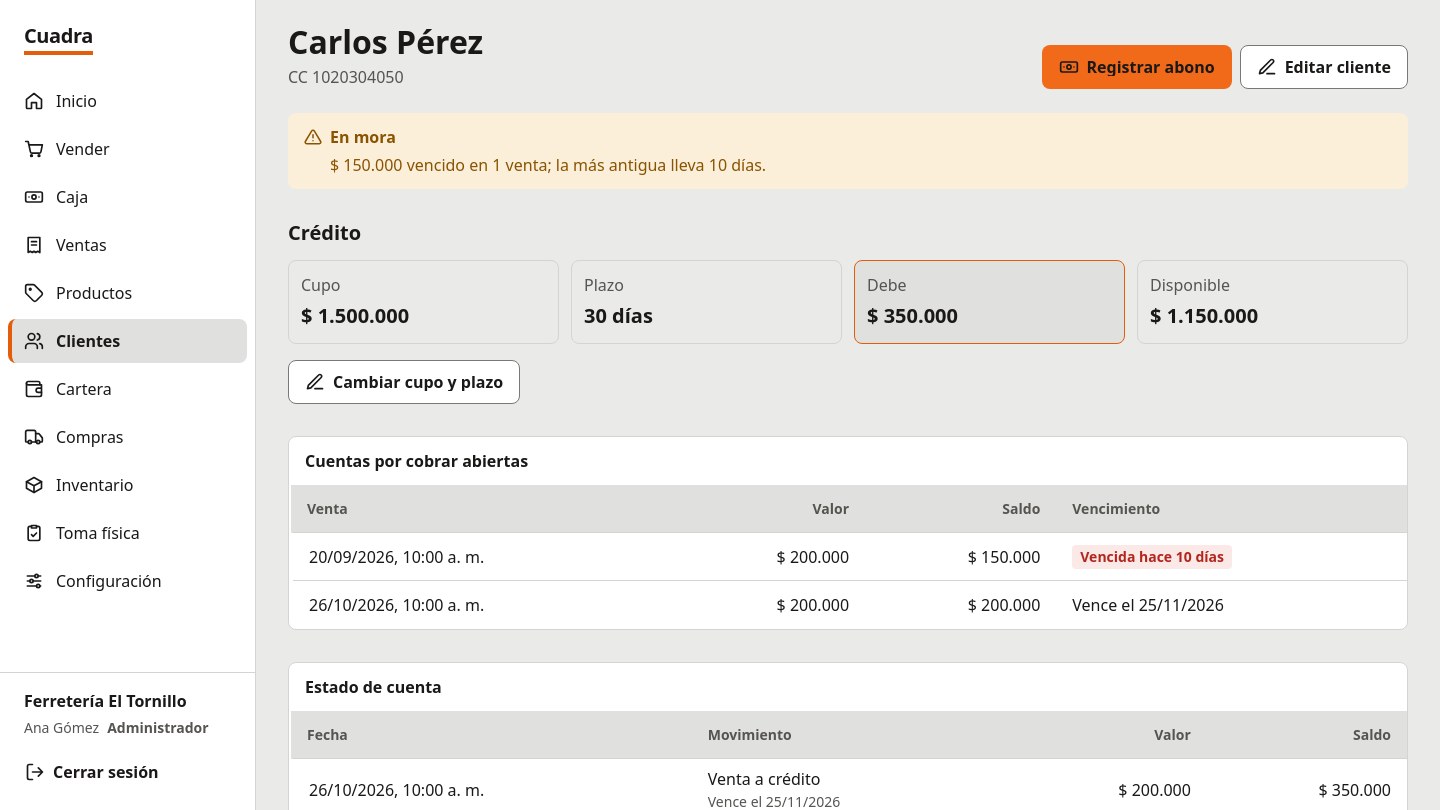
Test: CustomerAccountPage: abonos › registra un abono y dice cuánto queda debiendo
Click the button "Registrar abono" at (1137, 67), box [1042, 45, 1232, 89]
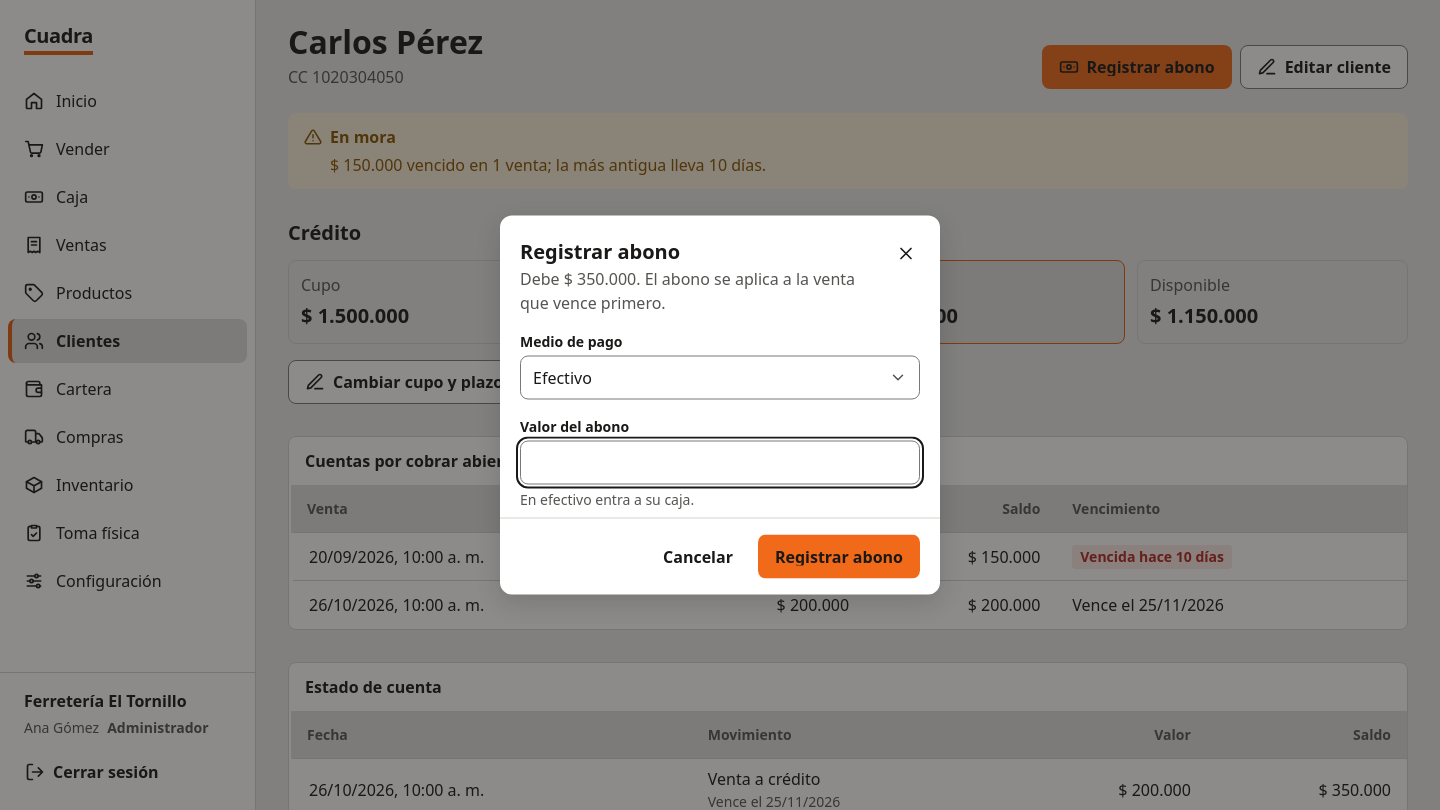
Expected: the text "Debe" reads "Debe $ 350.000. El abono se aplica a la venta que vence primero.", [520, 268, 855, 314]
Click the dropdown named "Medio de pago" at (562, 378), box [520, 356, 920, 400]
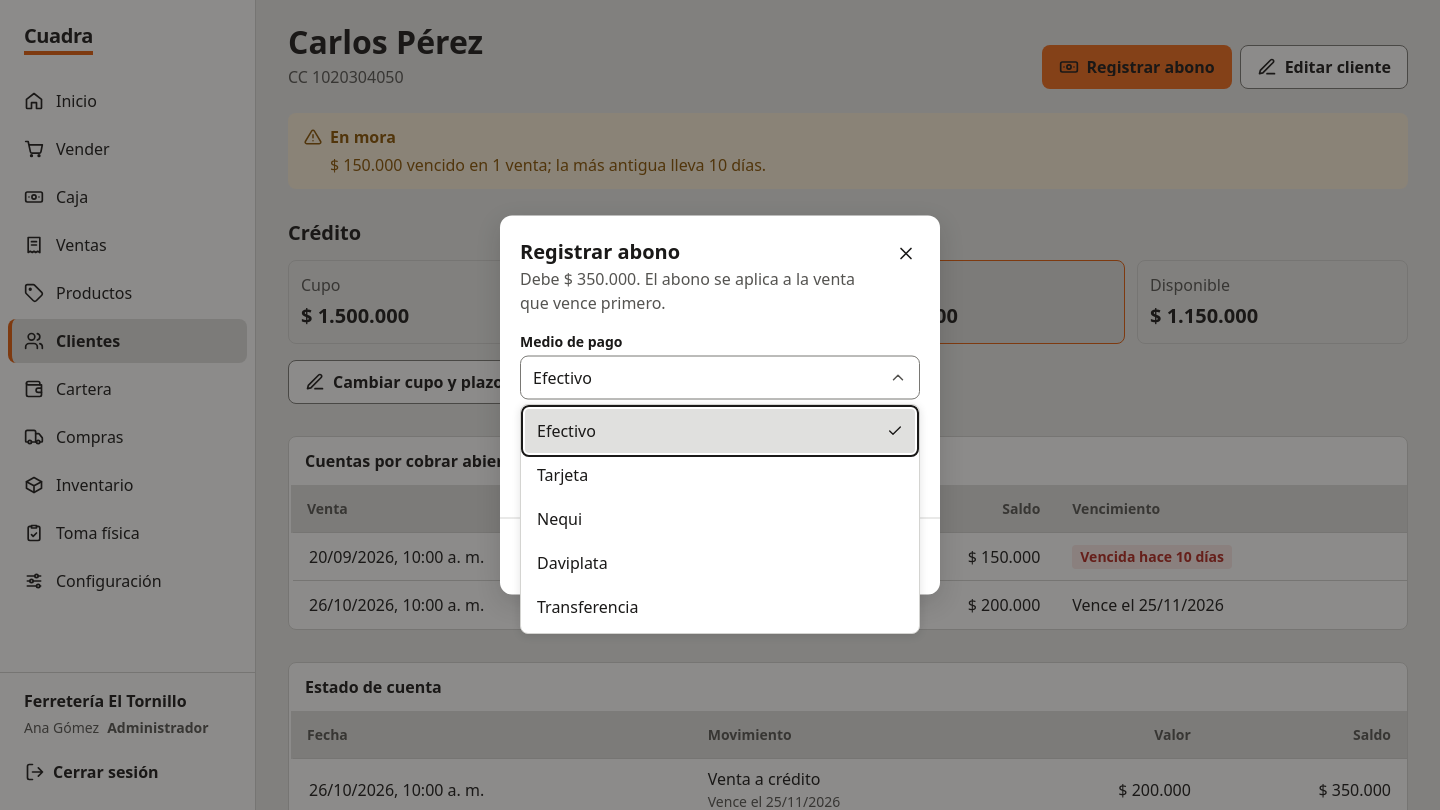
Click the option "Nequi" at (560, 519), box [537, 508, 582, 530]
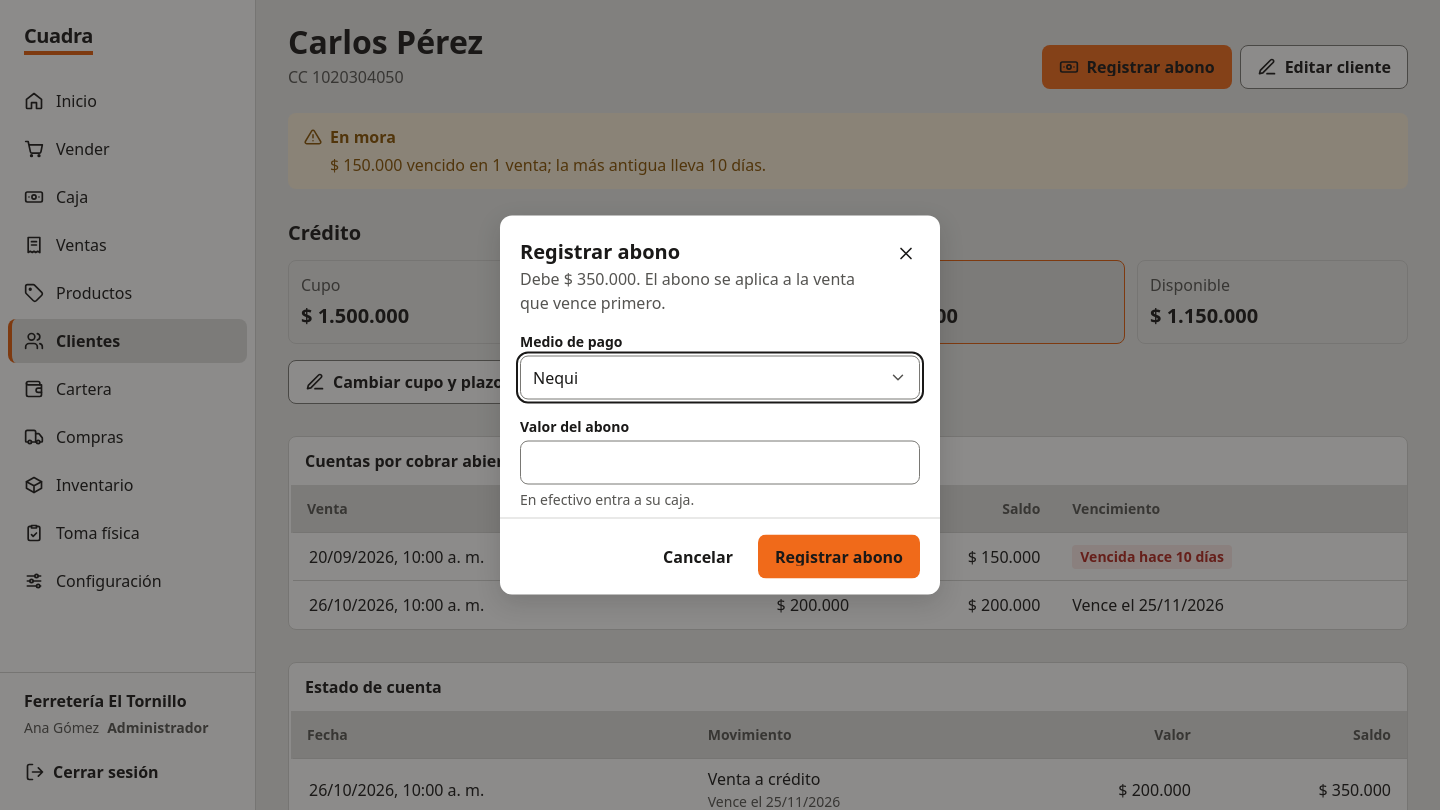
Type "100.000" into the field labelled "Valor del abono" at (720, 462), box [520, 440, 920, 484]
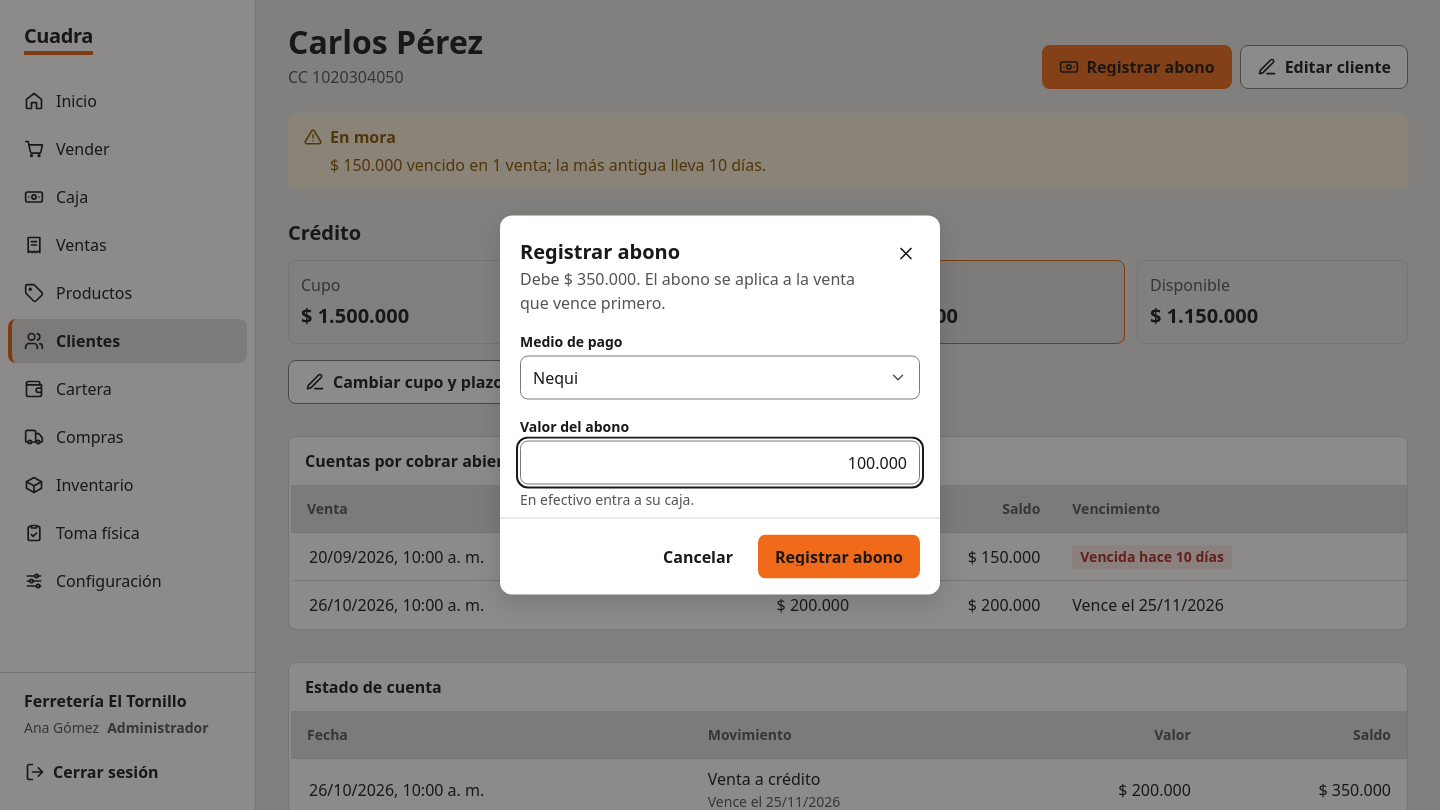
Click the button "Registrar abono" at (839, 556), box [758, 534, 920, 578]
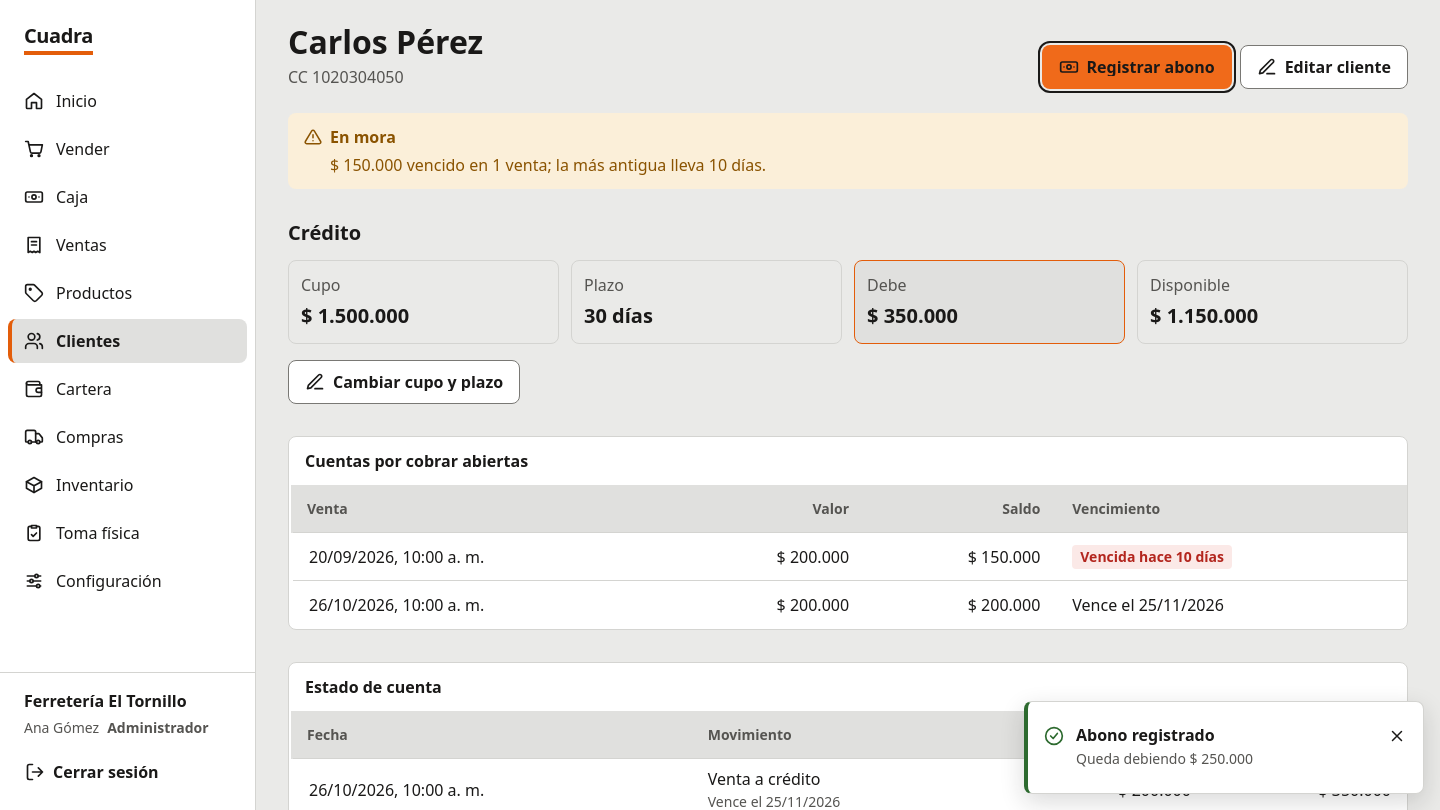
Expected: the text "Abono registrado" is shown, [1076, 724, 1215, 746]
Expected: the text "Queda debiendo $ 250.000" is shown, [1076, 749, 1253, 768]
Expected: the dialog is gone
